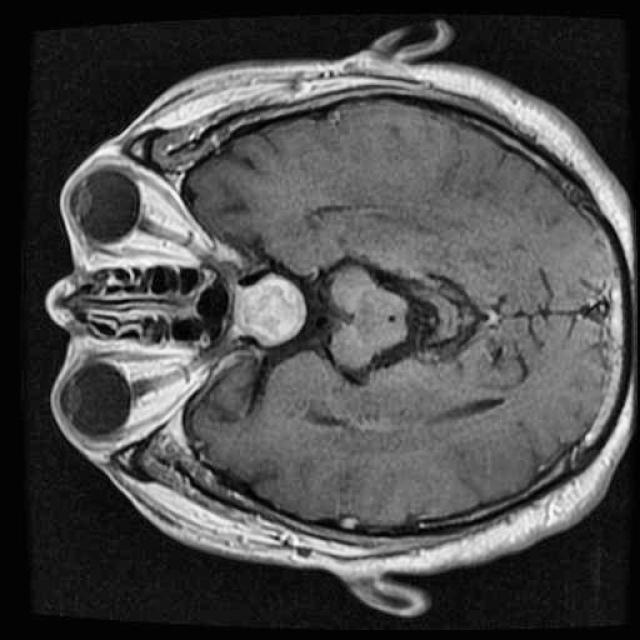Tumor: (213, 260, 321, 359)
